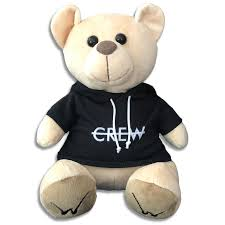teddy: (21, 1, 198, 223)
